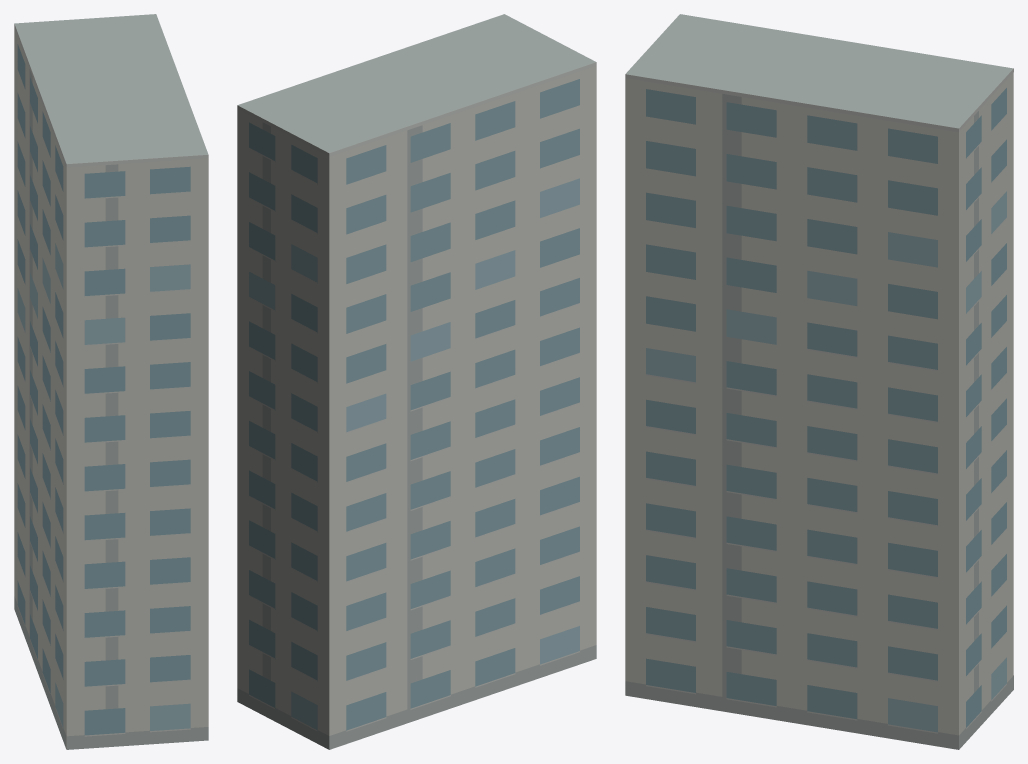
Rendered from residential-4205d568-6e93-4be2-8b5f-eb87a4057a24.glb.
3 renders of one model, left to right at view 1: azimuth 30°, elevation 25°; view 2: azimuth 150°, elevation 25°; view 3: azimuth 270°, elevation 25°, orthographic. The views are drawn at different scales.
Visible parts, largest first — view 1: residential-4205d568-6e93-4be2-8b5f-eb87a4057a24.tmp; view 2: residential-4205d568-6e93-4be2-8b5f-eb87a4057a24.tmp; view 3: residential-4205d568-6e93-4be2-8b5f-eb87a4057a24.tmp.
Boxes of the visible parts, x1,y1,x2,y2 form: residential-4205d568-6e93-4be2-8b5f-eb87a4057a24.tmp: (14, 14, 208, 749); residential-4205d568-6e93-4be2-8b5f-eb87a4057a24.tmp: (237, 14, 596, 749); residential-4205d568-6e93-4be2-8b5f-eb87a4057a24.tmp: (625, 14, 1013, 749).
Size of the model in its own units: 15.82 by 40 by 22.68.
